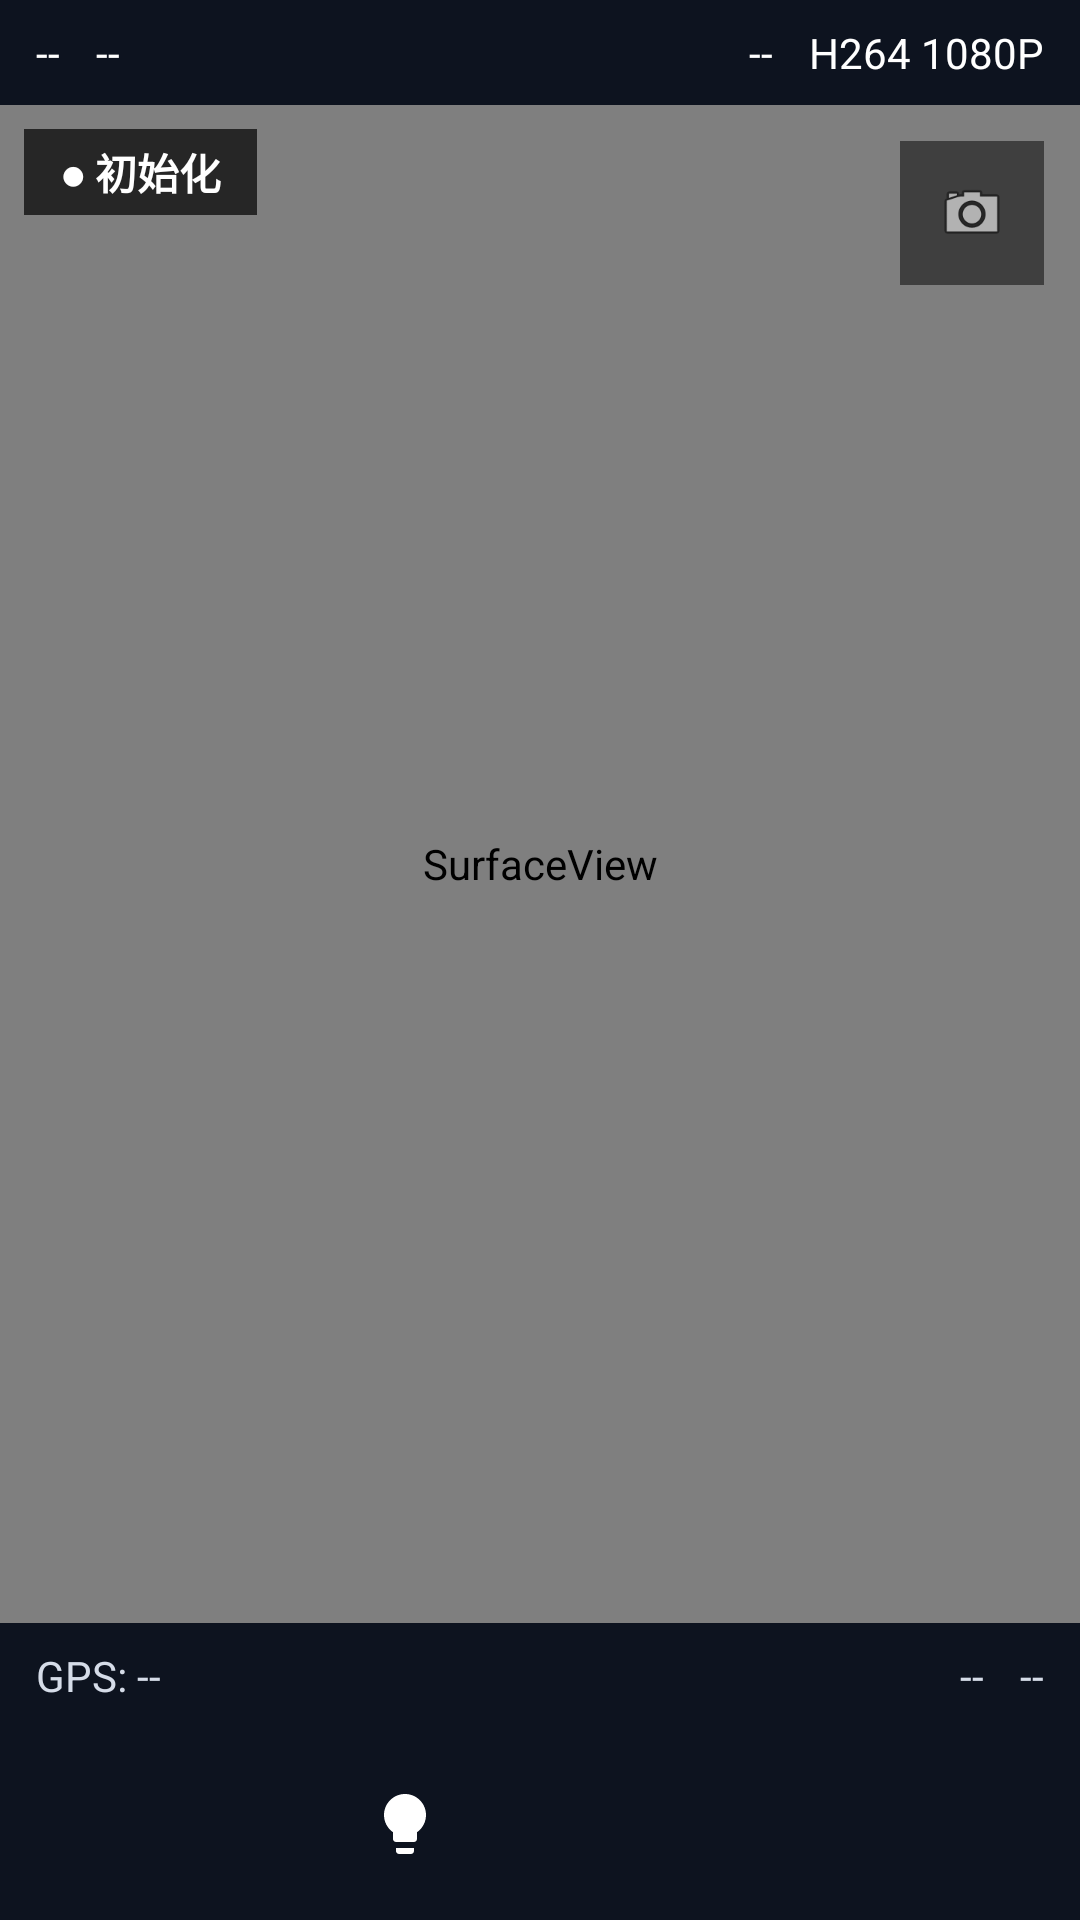

Where icons sit on this 1080w x 1920h app screen, as (x1, y1, x2, y2):
切换摄像头: (900, 141, 1044, 285)
灯光: (384, 1794, 426, 1854)
